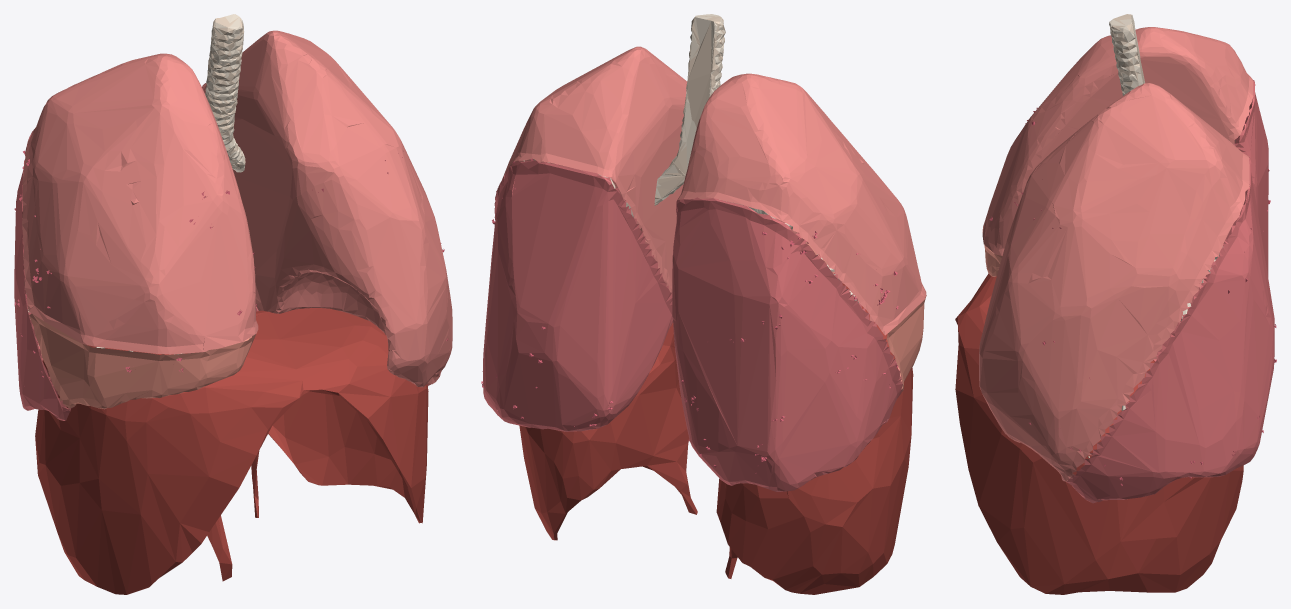
The model's file is bodyparts3d-lungs.glb.
3 views of the same model, side by side, from view 1: azimuth 30°, elevation 25°; view 2: azimuth 150°, elevation 25°; view 3: azimuth 270°, elevation 25° (orthographic). The views are drawn at different scales.
Parts seen in each view (by area): view 1: diaphragm, lobe_ru, lobe_lu, lobe_rm, lobe_rl, bronchial_tree, trachea; view 2: lobe_rl, lobe_ll, diaphragm, lobe_ru, lobe_lu, trachea, bronchial_tree, lobe_rm, alveoli, main_bronchus_l; view 3: lobe_lu, diaphragm, lobe_ll, lobe_ru, lobe_rl, bronchial_tree, trachea.
Boxes of the visible parts, x1,y1,x2,y2 form: diaphragm: (35,308,428,594); lobe_ru: (22,53,258,354); lobe_lu: (202,30,452,387); lobe_rm: (29,313,255,409); lobe_rl: (14,131,74,420); bronchial_tree: (96,14,245,351); trachea: (205,14,243,152); lobe_rl: (672,197,903,491); lobe_ll: (483,160,672,431); diaphragm: (519,283,913,594); lobe_ru: (677,73,926,335); lobe_lu: (495,46,687,294); trachea: (672,14,725,175); bronchial_tree: (600,14,858,302); lobe_rm: (806,241,926,391); alveoli: (481,158,899,473); main_bronchus_l: (598,161,685,215); lobe_lu: (979,83,1249,481); diaphragm: (955,273,1243,594); lobe_ll: (1066,157,1274,503); lobe_ru: (982,27,1253,255); lobe_rl: (1234,80,1268,276); bronchial_tree: (1109,15,1219,410); trachea: (1109,14,1144,94).
Size of the model in its own units: 0.2973 by 0.4098 by 0.2193.
